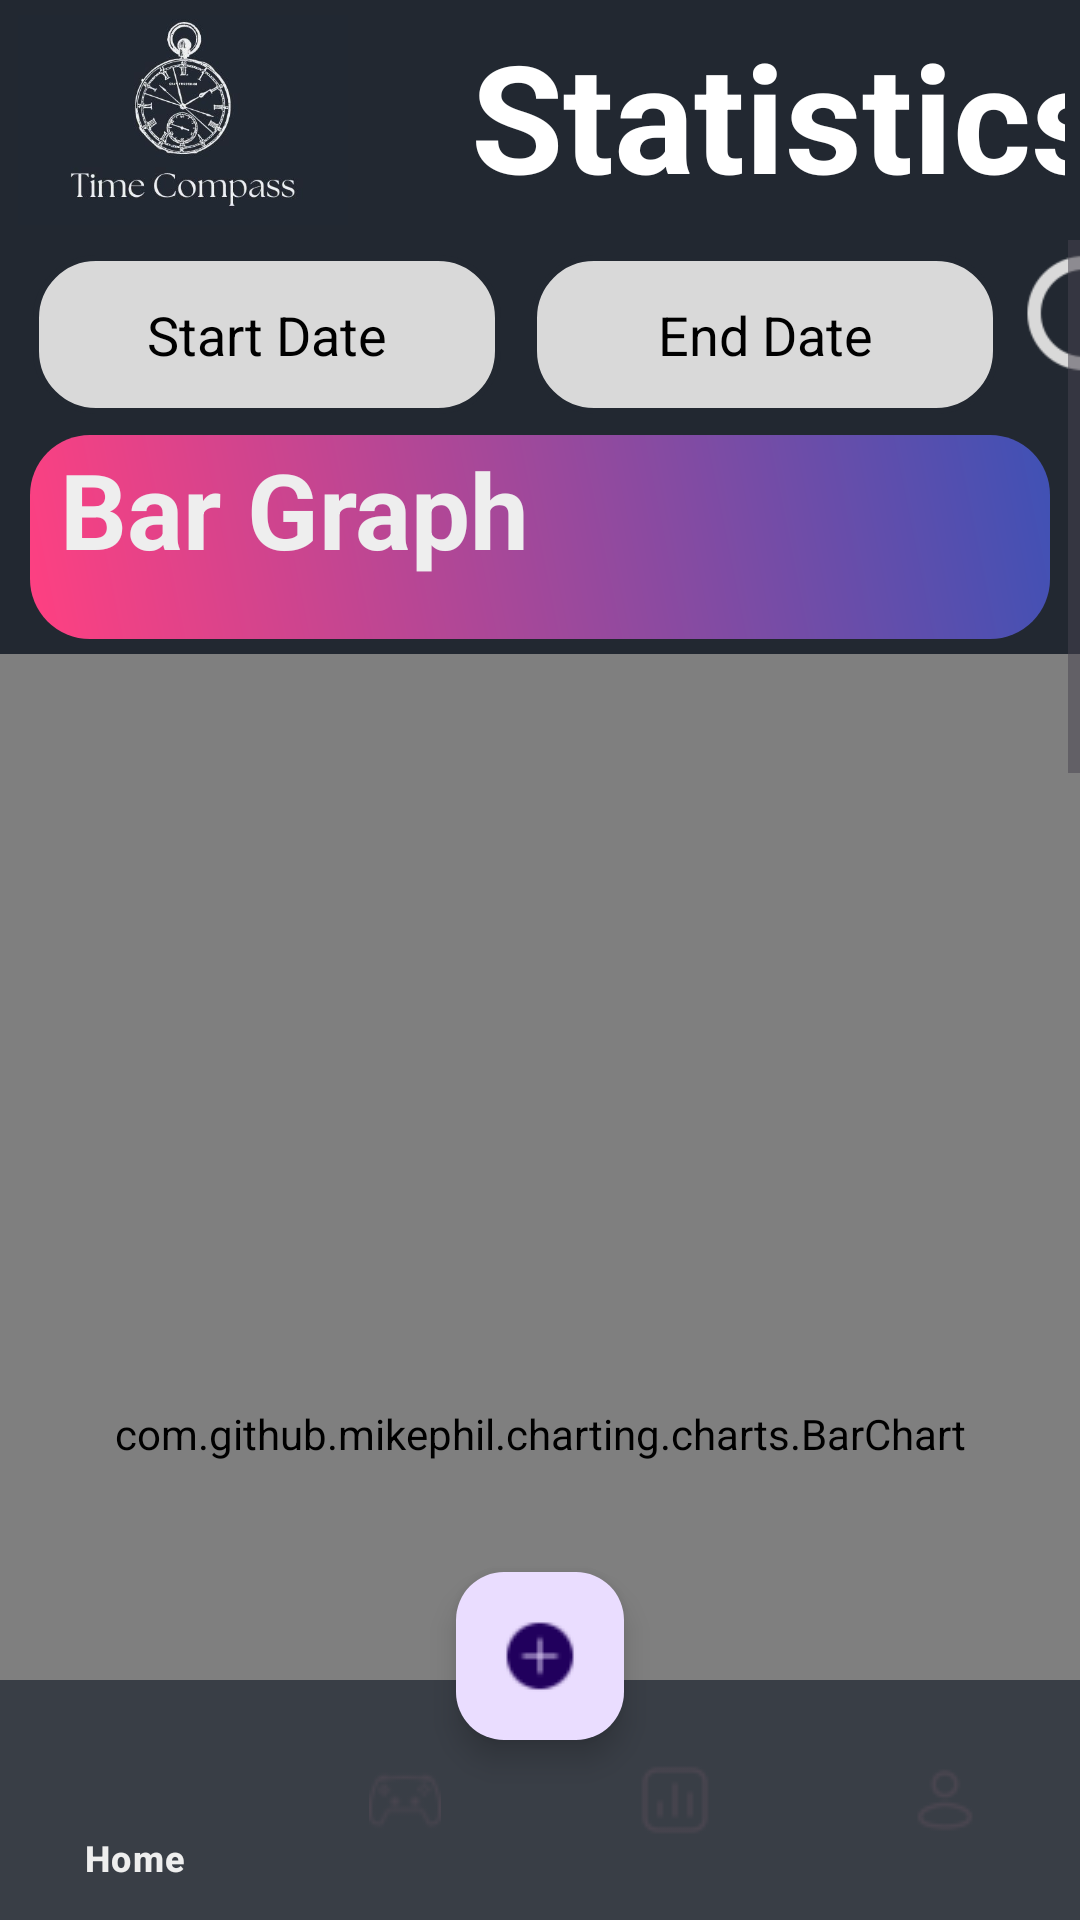

Point at icon controls on the screen. Image size 1080px x 1920px, points as (x,y).
plus: (540,1656)
